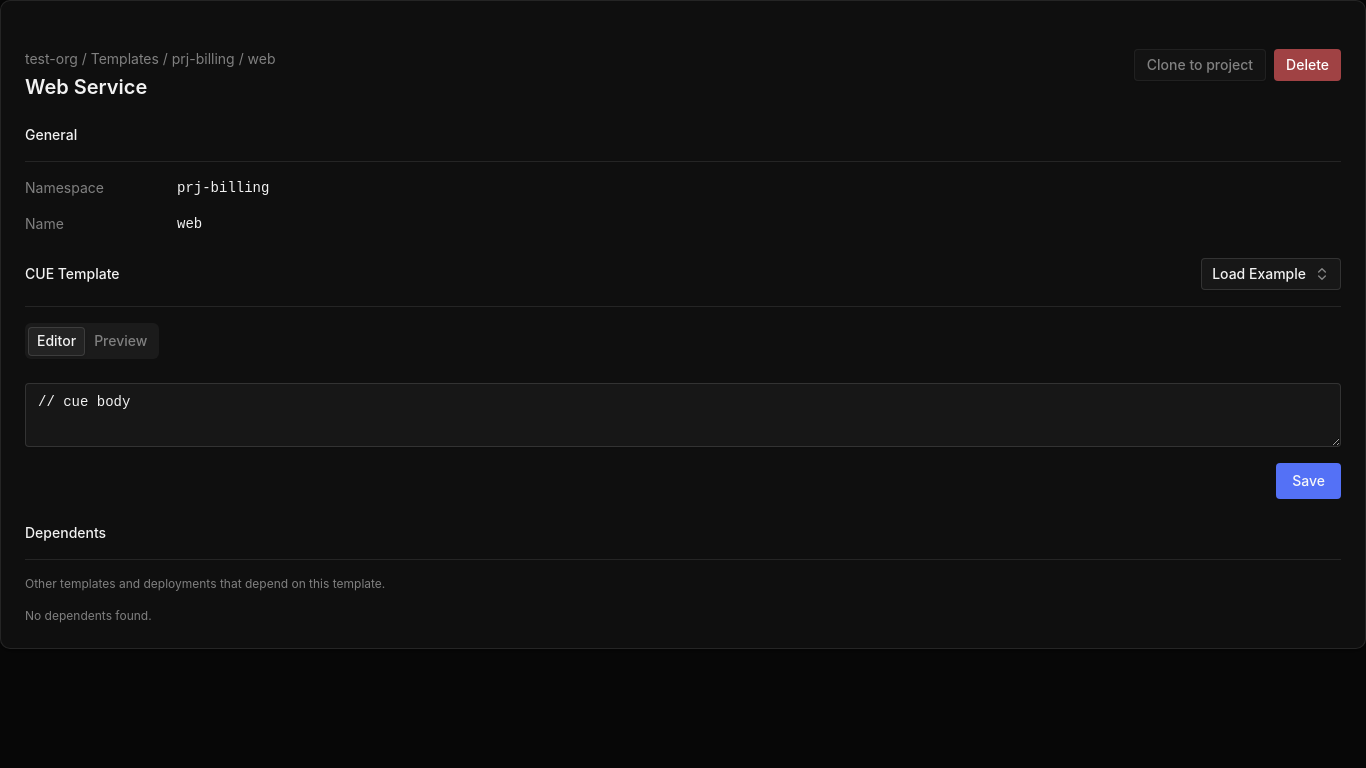
ConsolidatedTemplateEditorPage › delete flow › shows "Deleting..." and disables the confirm button while pending
Click the button "Delete": click(1308, 65) [1274, 49, 1341, 81]
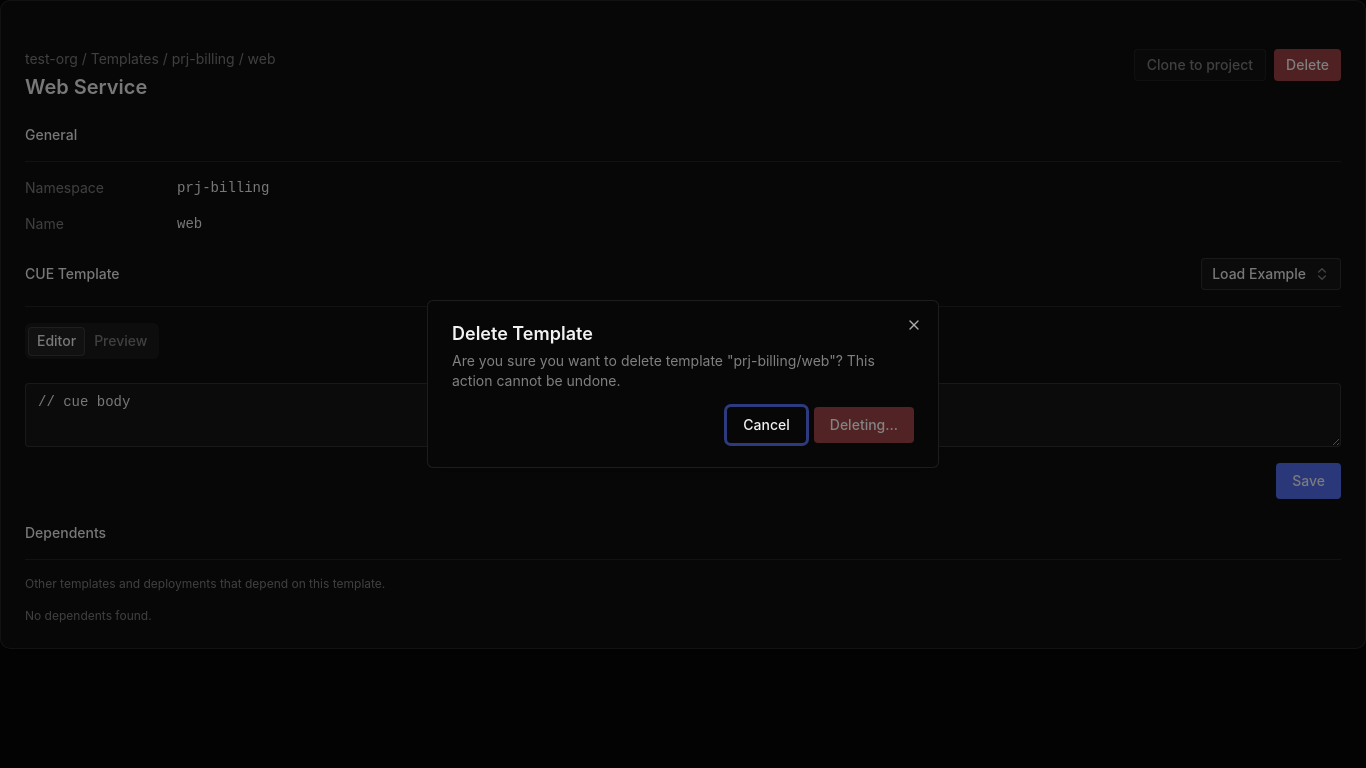
Check: the button "Deleting..." is disabled, box [814, 407, 914, 443]
